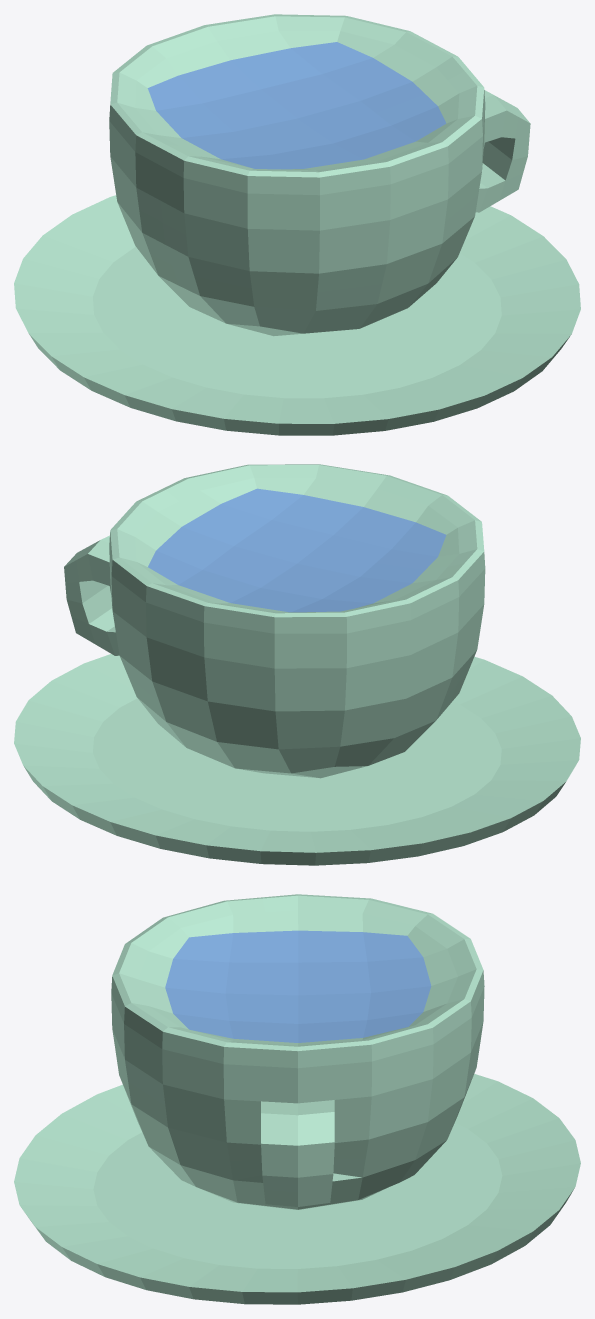
The model's file is coffee.fbx.
3 views of the same model, one above another, from view 1: azimuth 30°, elevation 25°; view 2: azimuth 150°, elevation 25°; view 3: azimuth 270°, elevation 25° (orthographic).
Parts seen in each view (by area): view 1: Circle; view 2: Circle; view 3: Circle.
Part boxes in pixels (bbox=[...]): Circle: bbox=[14, 14, 580, 435]; Circle: bbox=[14, 464, 580, 865]; Circle: bbox=[14, 894, 580, 1304].
Bounding box in the file's own units: 279 × 131 × 278.
